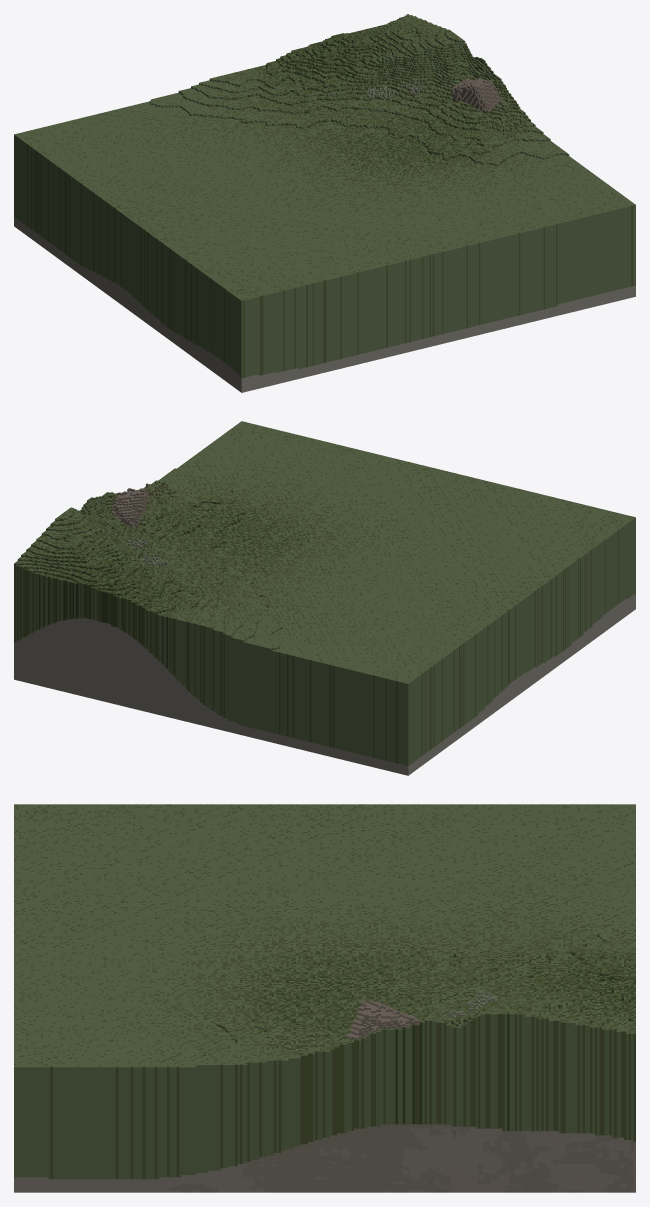
File: Combined Desert(3)-3-tile 4.obj
The picture shows the model from 3 angles, top to bottom: view 1: azimuth 30°, elevation 25°; view 2: azimuth 150°, elevation 25°; view 3: azimuth 270°, elevation 25°; orthographic projection. The views are drawn at different scales.
Parts seen in each view (by area): view 1: tile 4; view 2: tile 4; view 3: tile 4.
Part boxes in pixels (x1,y1,x2,y2): tile 4: [14, 14, 635, 392]; tile 4: [14, 421, 635, 775]; tile 4: [14, 804, 635, 1192].
Bounding box in the file's own units: 25.6 × 8.1 × 25.6.
Materials: 1 (1 with a texture image).
